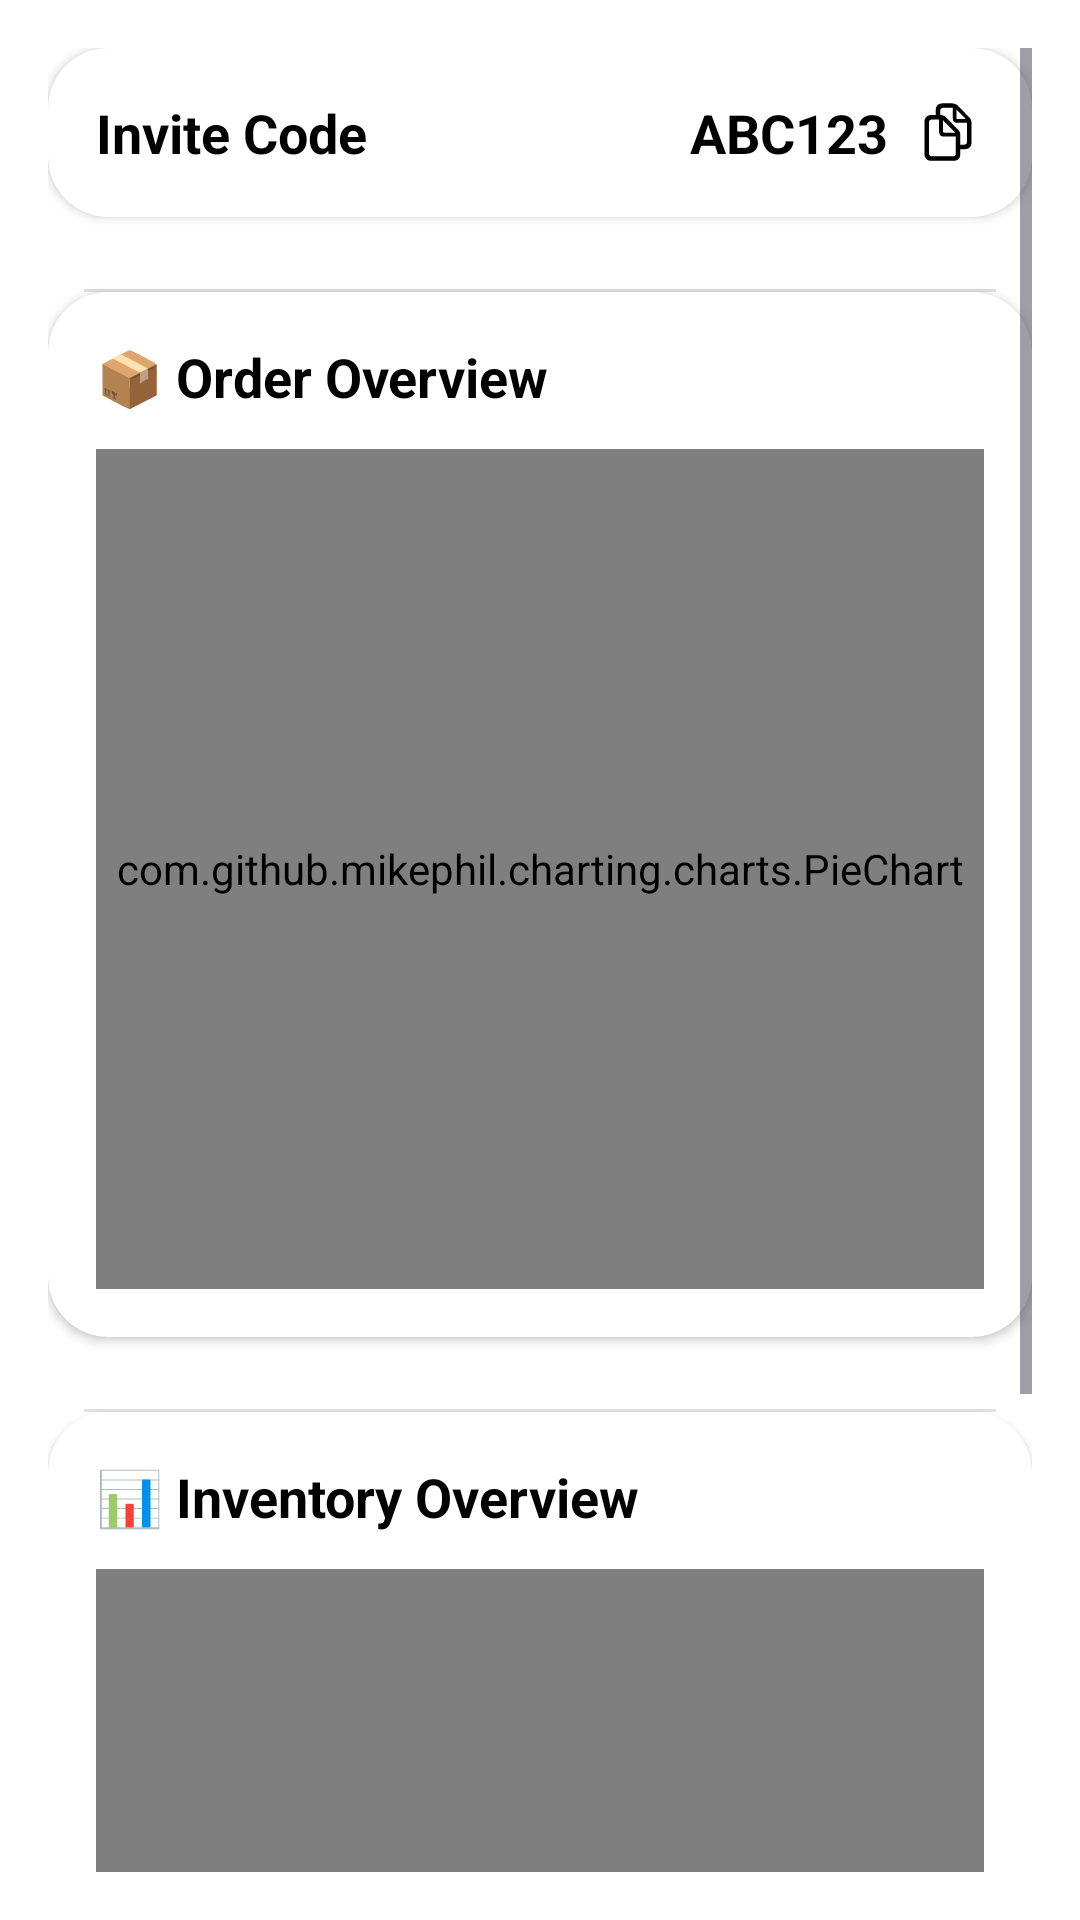

Icons on this 1080*1920 Android screen, each with the point to tap as (x,y):
Copy Invite Code: (948,132)
